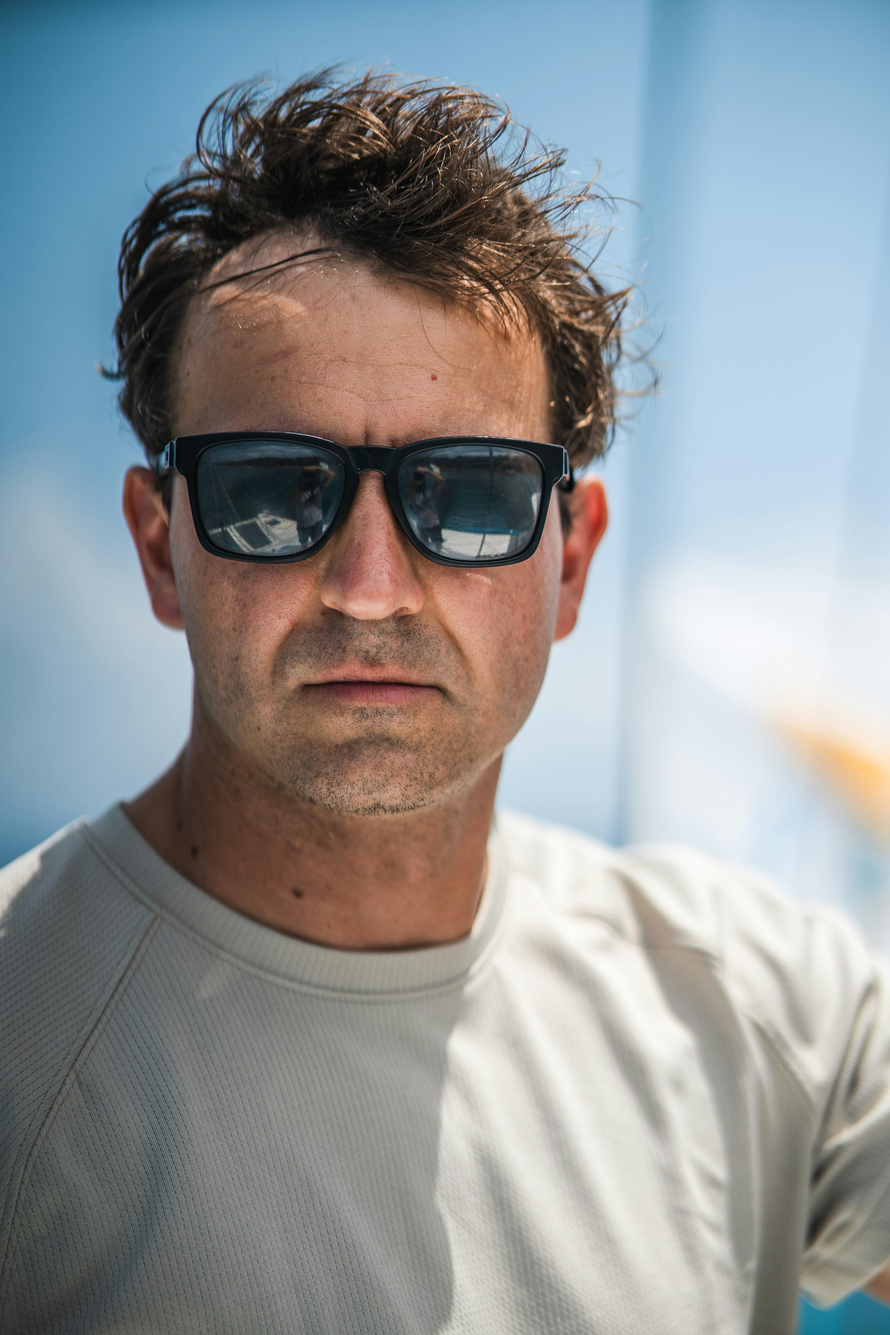sunglasses: (140, 412, 590, 578)
